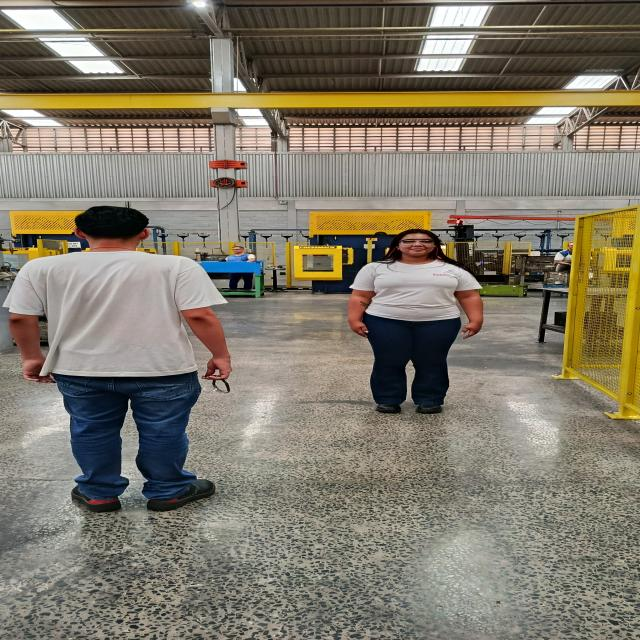oculos-epi: (400, 239, 434, 246)
